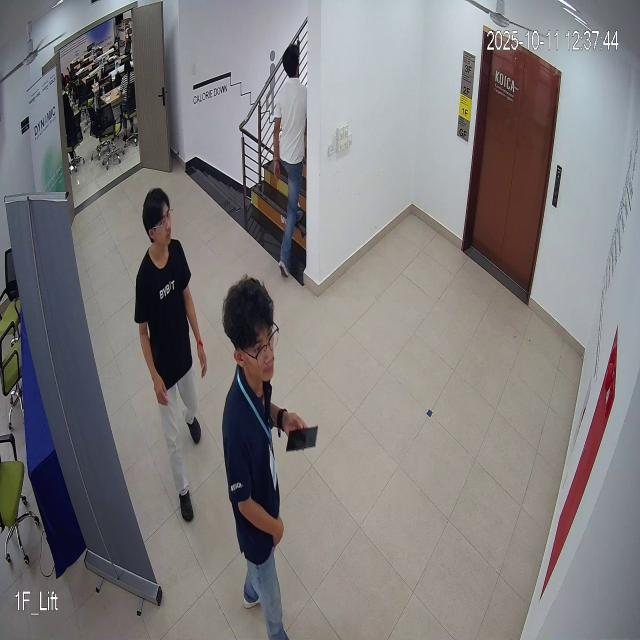face: (222, 272, 282, 384), (139, 186, 180, 251)
